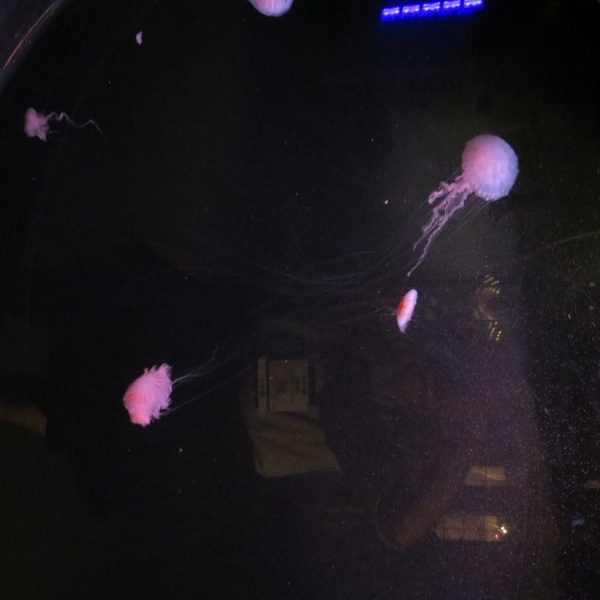Jellyfish: (253, 127, 520, 319), (121, 362, 203, 423), (22, 109, 90, 144), (376, 284, 421, 331), (248, 0, 290, 16)
